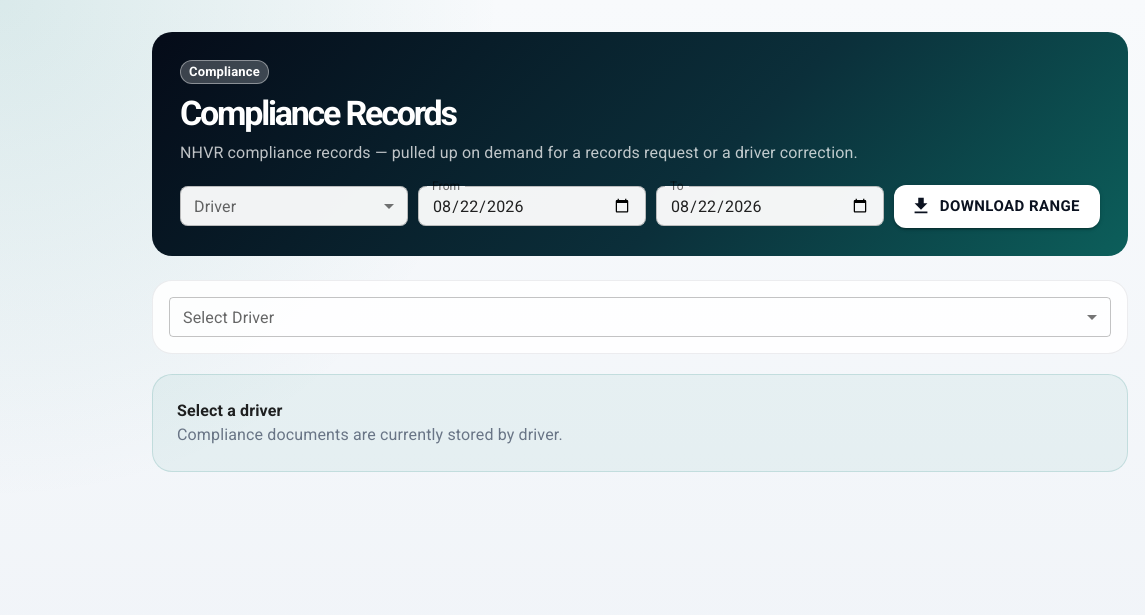
Test: admin WorkDiary — driver history section › PASS: pagination controls render for the driver-history list (unlike the removed pending queue, this list grows over months)
The image size is (1145, 615).
Expected: the text "Select a driver" is shown, left=177, top=400, right=282, bottom=420
Click the dropdown named "Select Driver" next to "Select Driver". click: x=640, y=316
box: left=169, top=296, right=1111, bottom=336
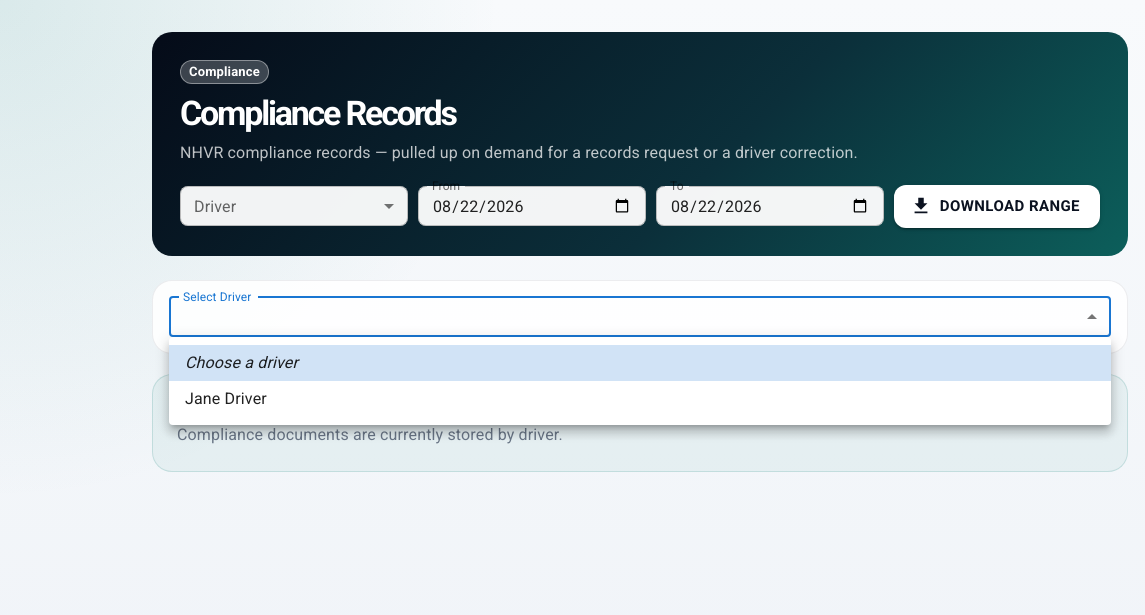
Click the option "Jane Driver". click: x=226, y=398
box: left=185, top=389, right=267, bottom=408
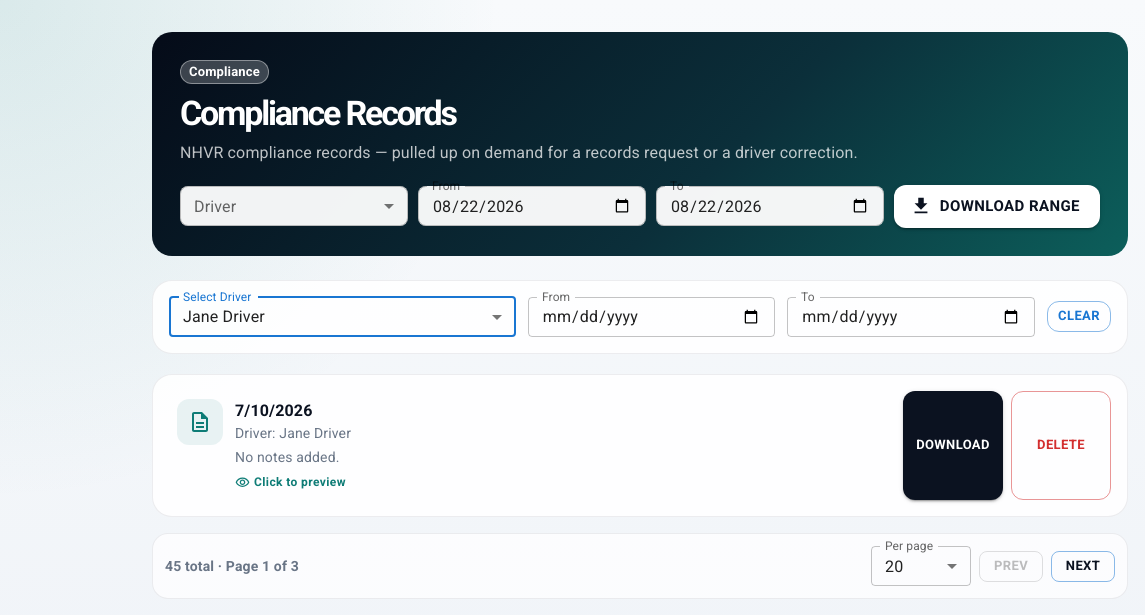
Result: the button "Next" is shown at left=1051, top=551, right=1115, bottom=582
Result: the button "Prev" is shown at left=979, top=551, right=1043, bottom=582
